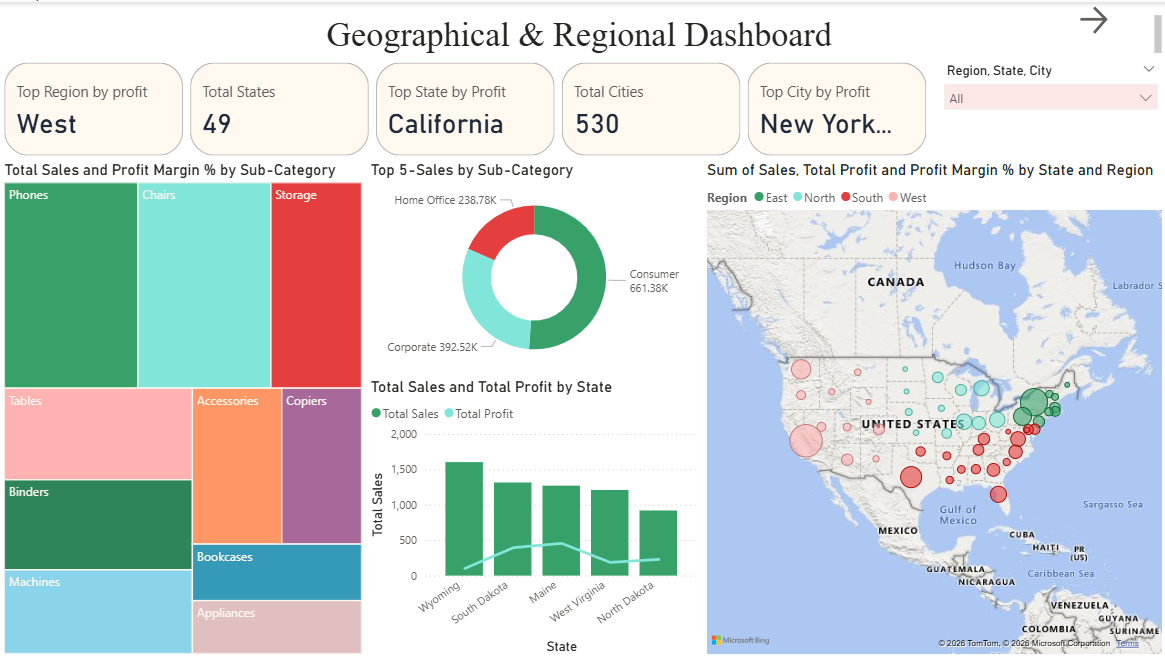

The dashboard page shown, as its layout file describes it:
{"tool":"powerbi","page":{"name":"Page 3","canvas":[1280,720],"ordinal":2},"visuals":[{"type":"textbox","box":[0,9.6,1280.3,52.1],"z":0},{"type":"cardVisual","fields":{"Data":["Geography.Top Region by profit","Geography.Total States","Geography.Top State by Profit","Geography.Total Cities","Geography.Top City by Profit"]},"box":[0,61.7,1026.4,112.5],"z":1000},{"type":"map","fields":{"Size":["Sum(Sales.Sales)"],"Series":["Geography.Region"],"Category":["Geography.State"]},"box":[771.2,174.3,509.1,546.1],"z":2000},{"type":"slicer","fields":{"Values":["Geography.Region","Geography.State","Geography.City"]},"box":[1026.4,61.7,253.9,112.5],"z":3000},{"type":"donutChart","title":"Top 5-Sales by Sub-Category","fields":{"Category":["Customer.Segment"],"Y":["Sum(Sales.Sales)"]},"box":[402.1,174.3,369.1,237.4],"z":4000},{"type":"lineStackedColumnComboChart","fields":{"Category":["Geography.State"],"Y":["Sales.Total Sales"],"Y2":["Sales.Total Profit"]},"box":[402.1,411.7,369.1,308.7],"z":5000},{"type":"treemap","fields":{"Group":["Product.Sub-Category"],"Values":["Sales.Total Sales"]},"box":[0,174.3,402.1,546.1],"z":6000},{"type":"actionButton","box":[1180.2,0,99.8,39.9],"z":7000}]}

Visuals, with their boxes in screenshot pixels (x1, y1, x2, y2), scaled from the page's 1280x720 canvas onto the 1165x656 screenshot:
textbox: <region>0, 9, 1164, 56</region>
cardVisual - Geography.Top Region by profit x Geography.Total States: <region>0, 56, 934, 159</region>
map - Sum(Sales.Sales) x Geography.Region: <region>702, 159, 1164, 655</region>
slicer - Geography.Region x Geography.State: <region>934, 56, 1164, 159</region>
"Top 5-Sales by Sub-Category" donutChart: <region>366, 159, 702, 375</region>
lineStackedColumnComboChart - Geography.State x Sales.Total Sales: <region>366, 375, 702, 655</region>
treemap - Product.Sub-Category x Sales.Total Sales: <region>0, 159, 366, 655</region>
actionButton: <region>1074, 0, 1164, 36</region>
